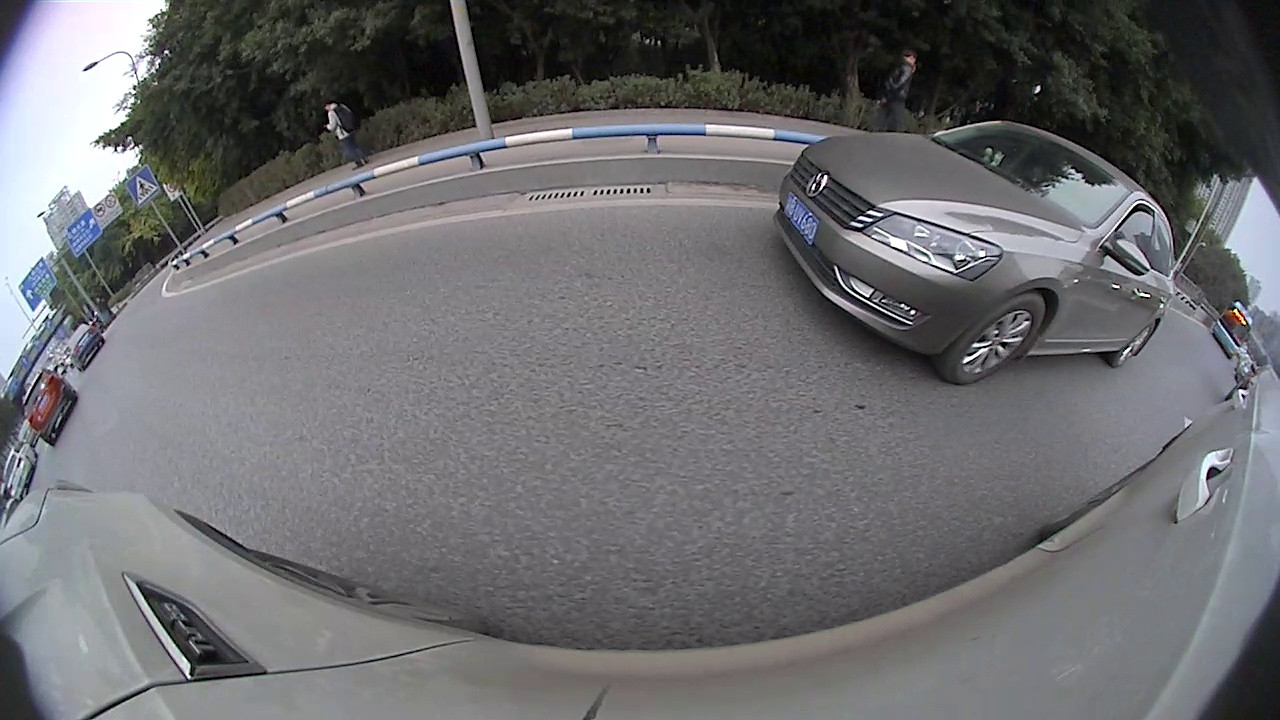bus: (1211, 300, 1257, 358)
car: (774, 121, 1178, 388), (20, 368, 79, 447), (64, 323, 108, 372), (2, 445, 40, 499), (1226, 364, 1279, 401)
front: (932, 290, 1052, 388)
person: (886, 43, 914, 133), (328, 98, 356, 176)
rear: (1105, 321, 1160, 370)
